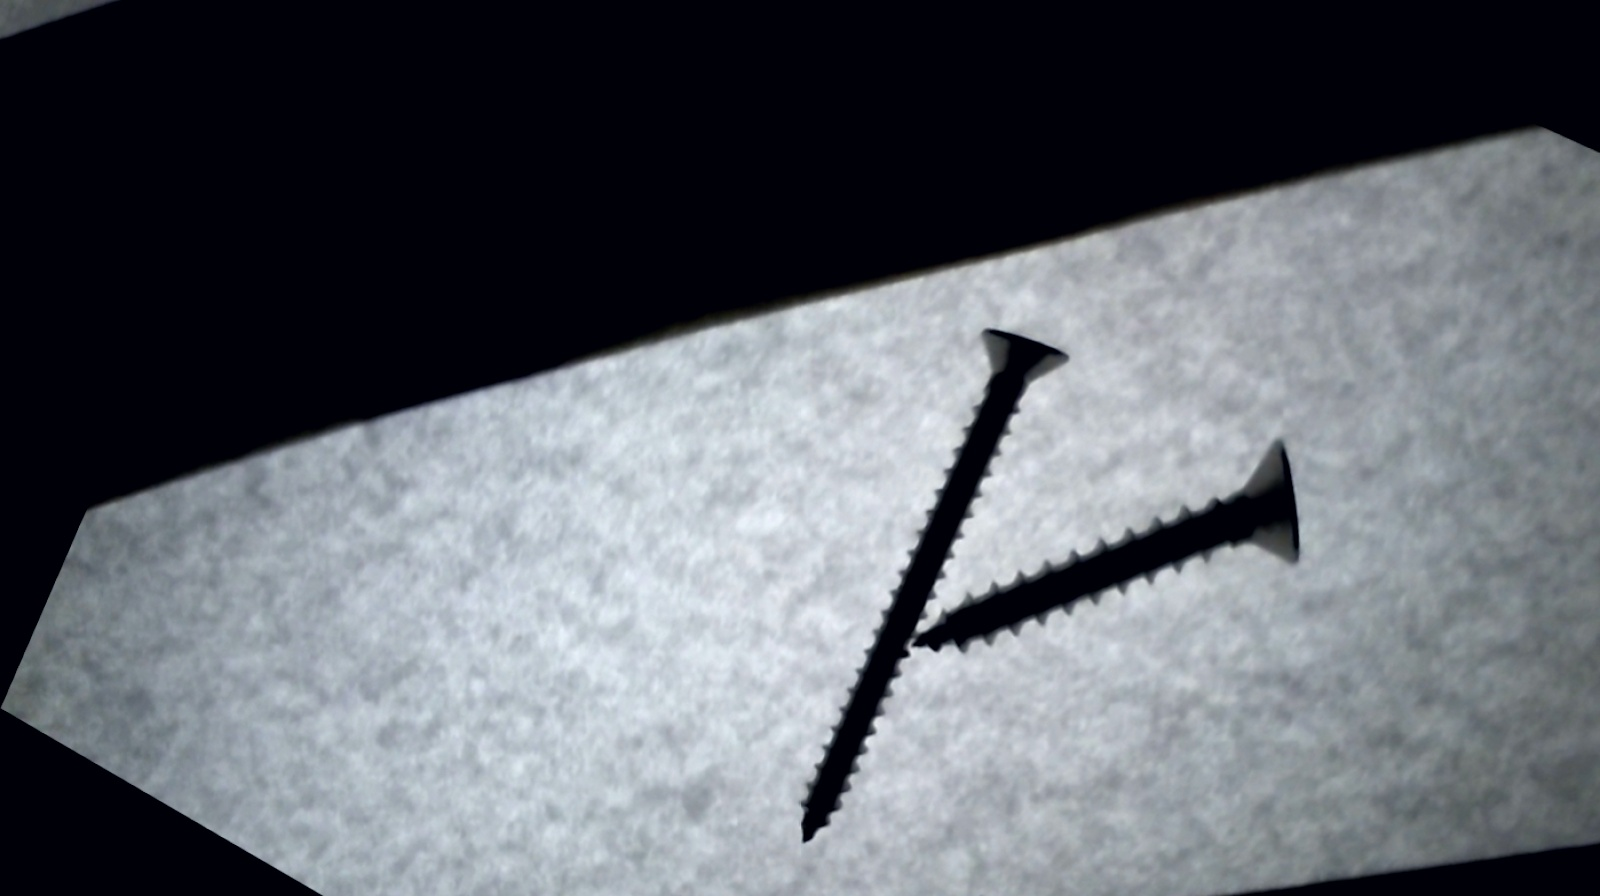S001: (920, 341, 1359, 768)
S002: (721, 302, 1114, 849)
